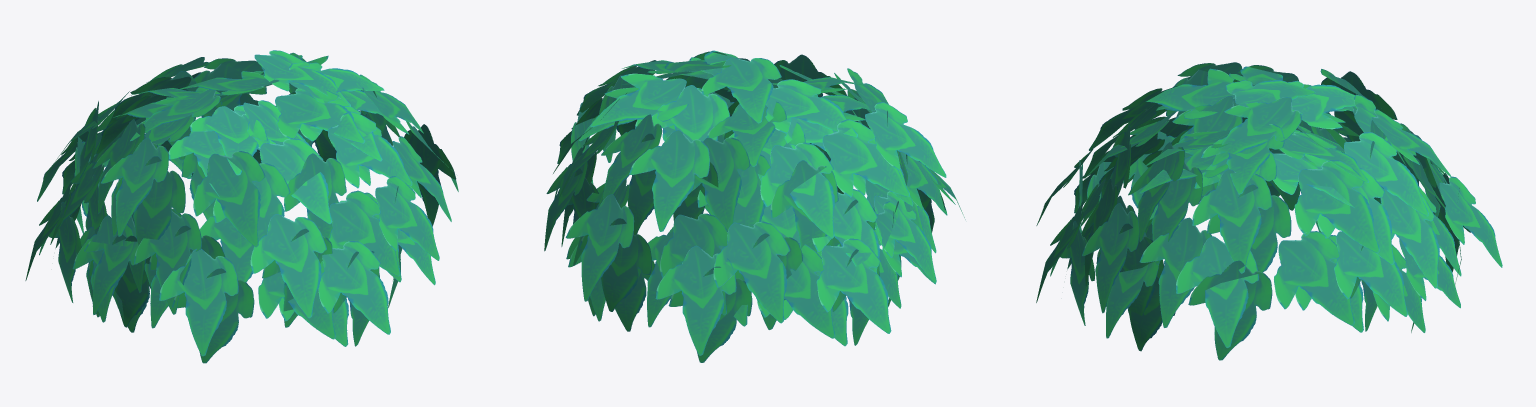
The model's file is M_Bush2.FBX.
3 views of the same model, side by side, from view 1: azimuth 30°, elevation 25°; view 2: azimuth 150°, elevation 25°; view 3: azimuth 270°, elevation 25° (orthographic). The views are drawn at different scales.
Visible parts, largest first — view 1: Object242; view 2: Object242; view 3: Object242.
Part boxes in pixels (bbox=[...]): Object242: bbox=[25, 50, 458, 363]; Object242: bbox=[544, 50, 965, 362]; Object242: bbox=[1036, 62, 1502, 360].
Bounding box in the file's own units: 239 × 148 × 245.
